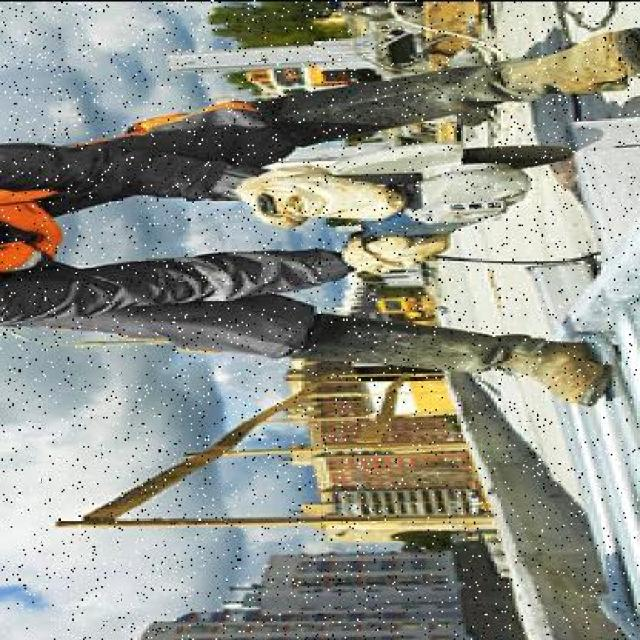shoes: (293, 31, 639, 140), (292, 326, 608, 394)
